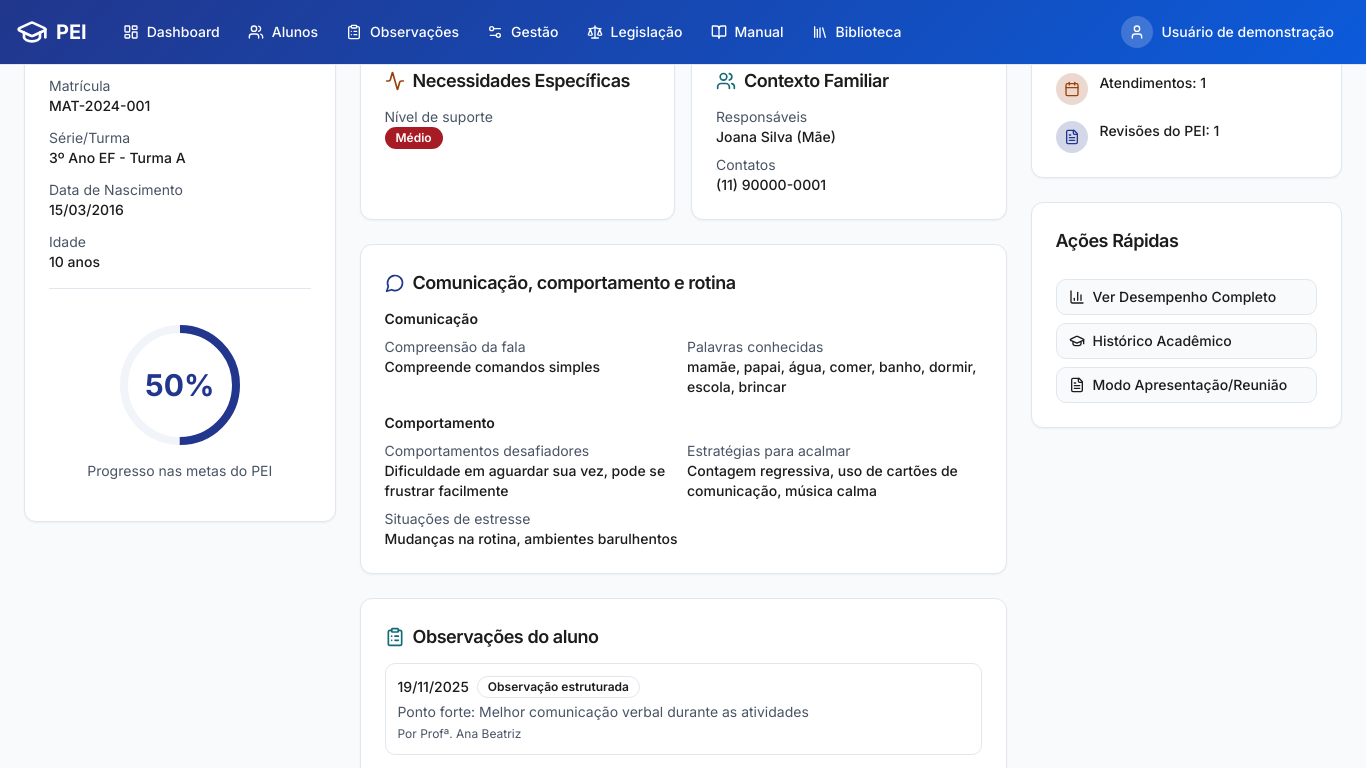
Test: Modo Apresentação: os slides vêm do plano › o preview lista os slides que serão montados, e o número vem das metas
(page scrolled)
Click the button "Modo Apresentação/Reunião" at (1186, 384), box [1056,366,1317,402]
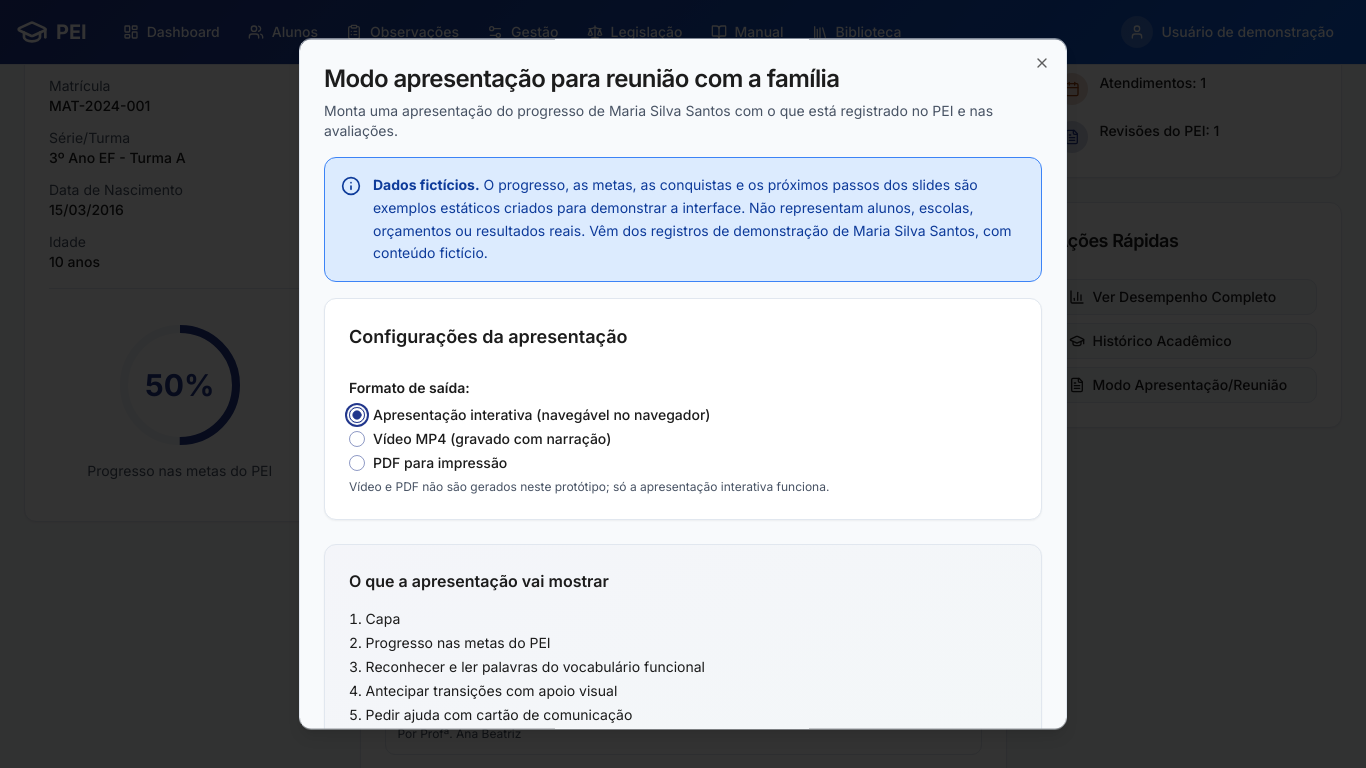
expect the list item "Reconhecer e ler palavras do vocabulário funcional" is shown: met, box [366,658,705,675]
